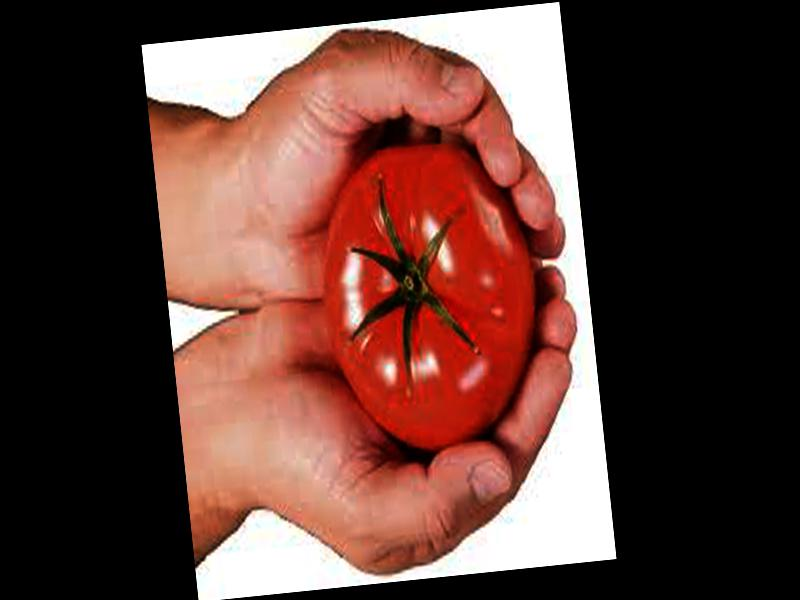Tomato: (312, 130, 548, 460)
